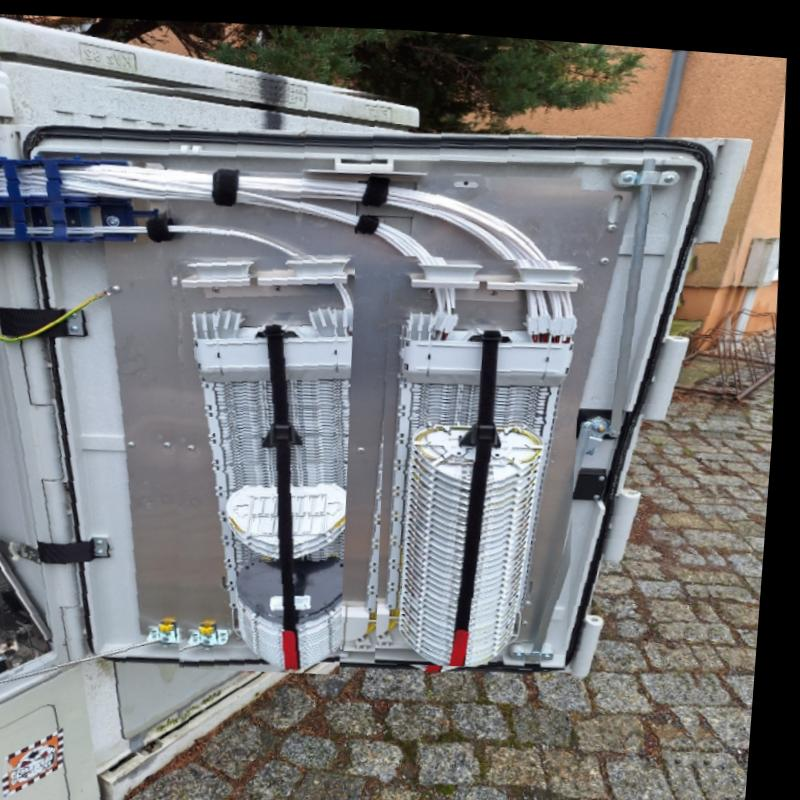NT-Gehause: (0, 84, 748, 800)
Spleiskassetten: (385, 249, 587, 657), (180, 248, 358, 667)
